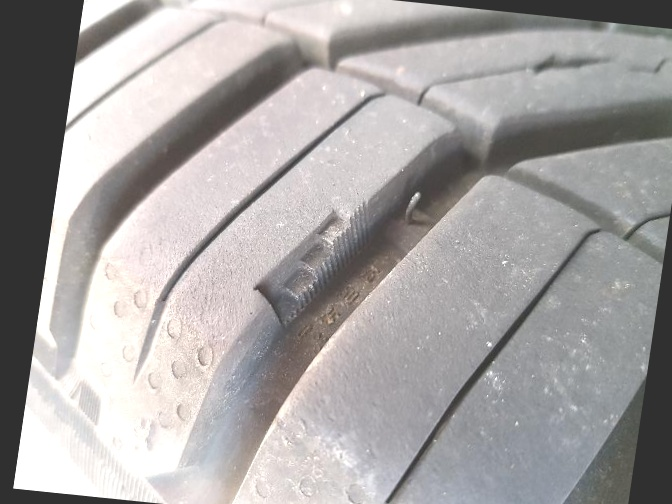temoin:90: (240, 182, 382, 348)
